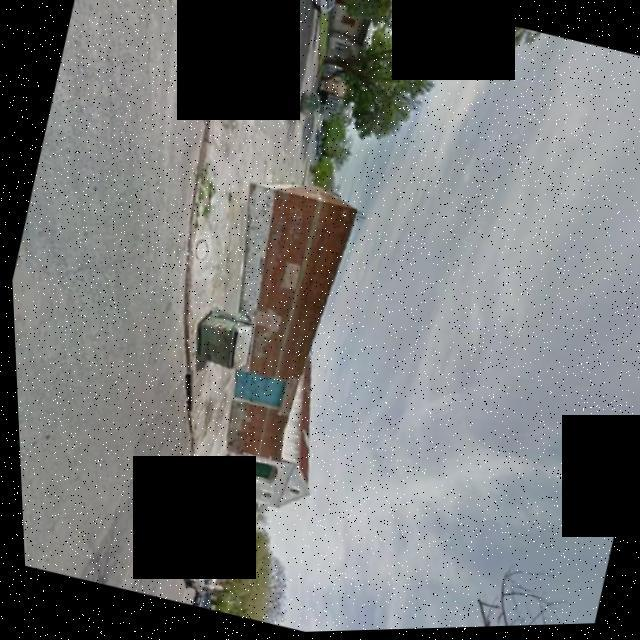bin: (175, 294, 262, 390)
